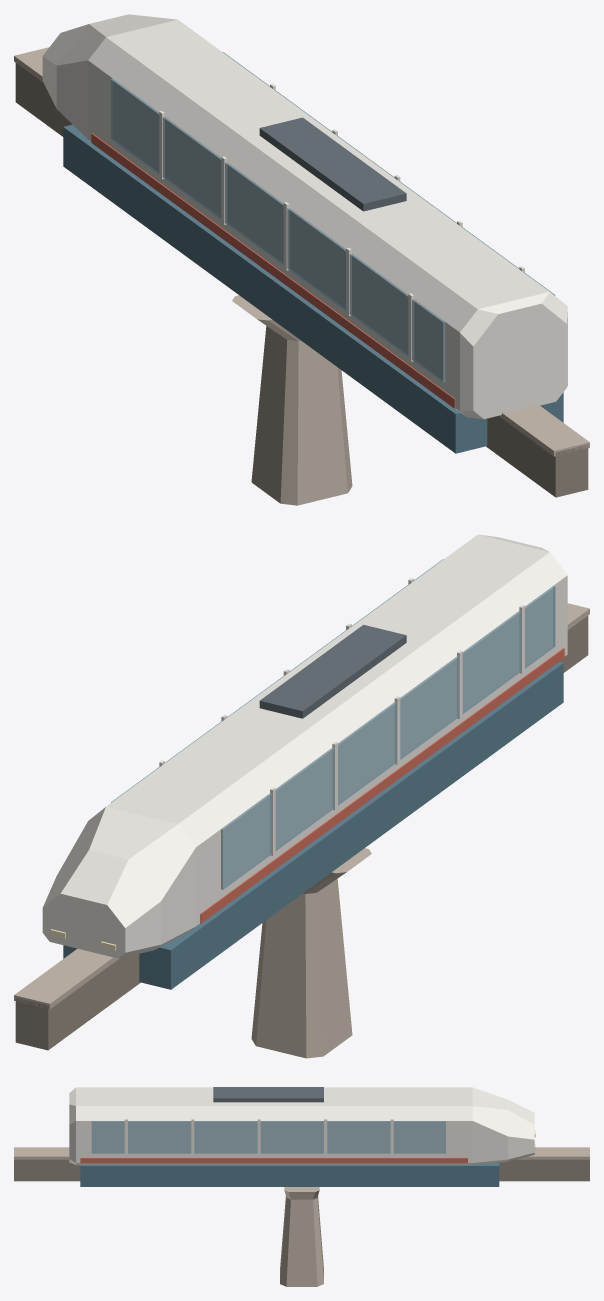
File: RAIL_02.obj
3 views of the same model, one above another, from view 1: azimuth 30°, elevation 25°; view 2: azimuth 150°, elevation 25°; view 3: azimuth 270°, elevation 25° (orthographic). The views are drawn at different scales.
Parts seen in each view (by area): view 1: body, panoramic_glass, skirts, pier, guideway_beam, roof_equipment, stripe, window_pillars; view 2: body, panoramic_glass, skirts, pier, guideway_beam, roof_equipment, stripe, window_pillars; view 3: body, panoramic_glass, skirts, guideway_beam, pier, stripe, roof_equipment, window_pillars.
Part boxes in pixels (<box>): body: <box>42,14,567,419</box>; panoramic_glass: <box>111,52,555,382</box>; skirts: <box>63,124,563,453</box>; pier: <box>232,295,352,505</box>; guideway_beam: <box>14,47,589,497</box>; roof_equipment: <box>259,117,406,211</box>; stripe: <box>91,133,455,408</box>; window_pillars: <box>159,83,524,361</box>; body: <box>42,534,567,958</box>; panoramic_glass: <box>111,559,555,889</box>; skirts: <box>63,662,563,989</box>; pier: <box>251,848,371,1058</box>; guideway_beam: <box>14,603,589,1050</box>; roof_equipment: <box>259,624,406,718</box>; stripe: <box>200,648,564,923</box>; window_pillars: <box>159,578,524,855</box>; body: <box>69,1087,534,1165</box>; panoramic_glass: <box>91,1121,445,1153</box>; skirts: <box>80,1162,499,1186</box>; guideway_beam: <box>14,1147,589,1181</box>; pier: <box>280,1187,323,1286</box>; stripe: <box>80,1158,467,1163</box>; roof_equipment: <box>213,1087,323,1102</box>; window_pillars: <box>124,1119,393,1154</box>.
Bounding box in the file's own units: 3.2 × 9.2 × 26.
